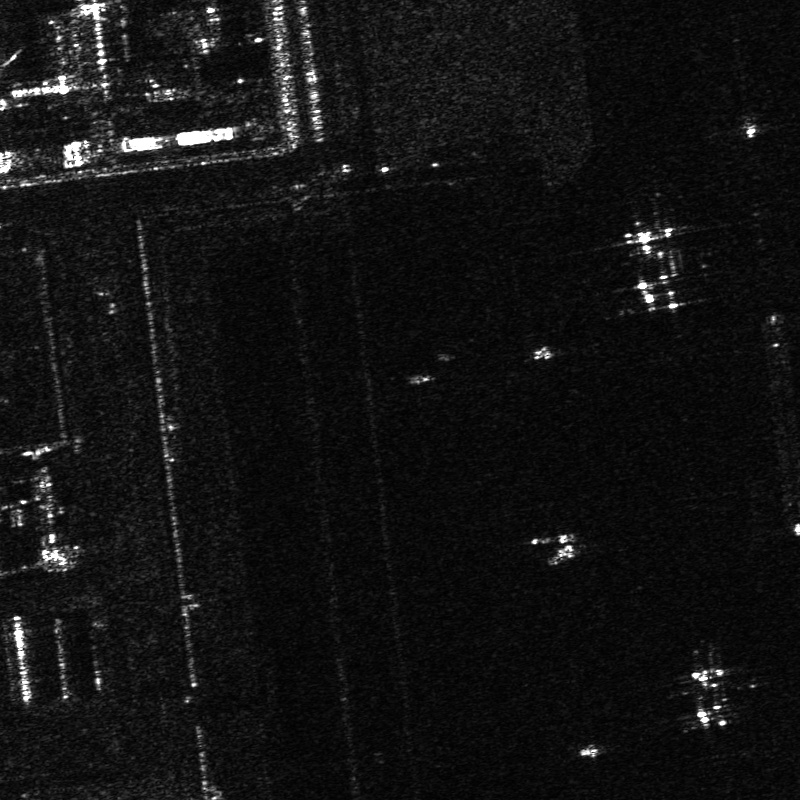Boeing787: (659, 636, 759, 734)
other: (580, 202, 715, 322)
